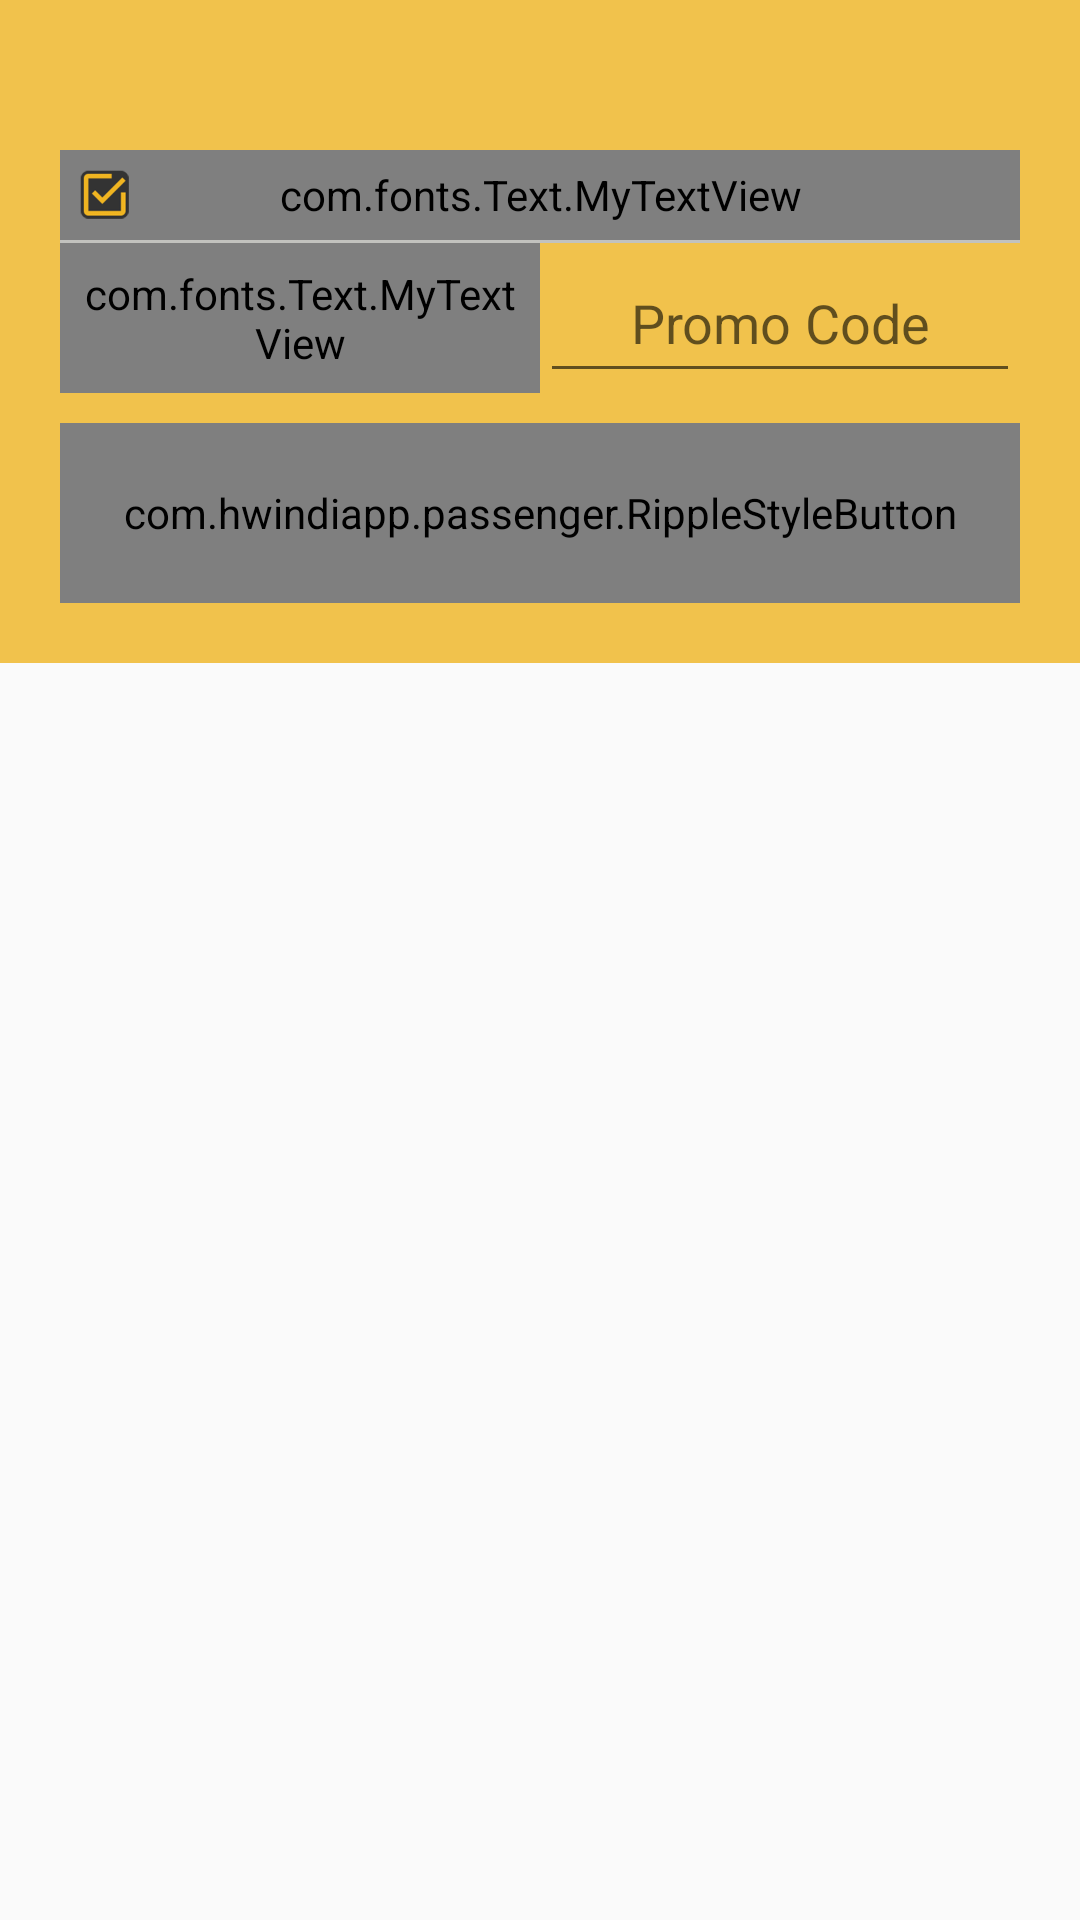

Icons on this 1080px×1920px Android screen, each with the point to tap as [x,y]:
selection payment: [105,195]
